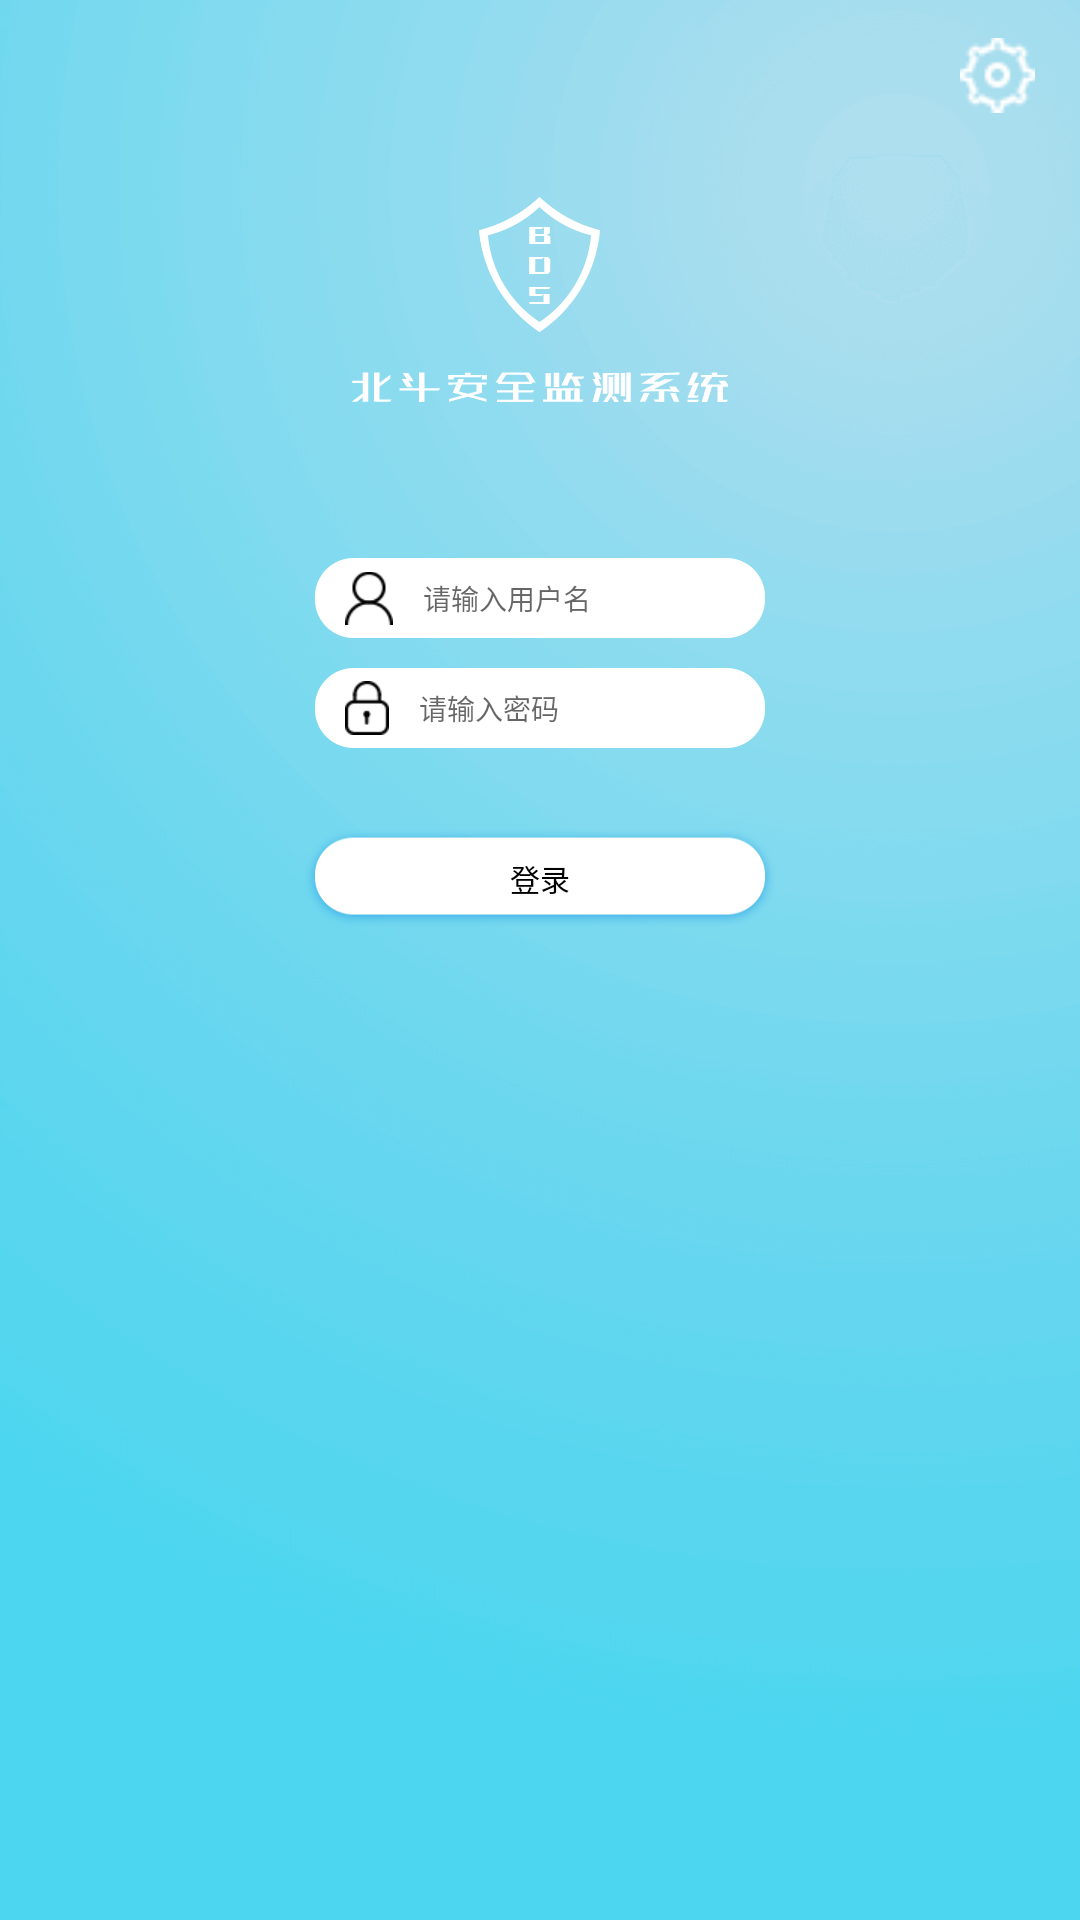

Screen size 1080px x 1920px. Icon name, then its center in pixels as (x,y):
login password: (367,708)
login user: (369,598)
setting: (997,75)
